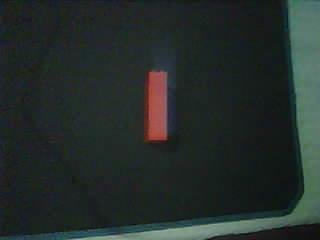lego: (143, 70, 167, 141)
